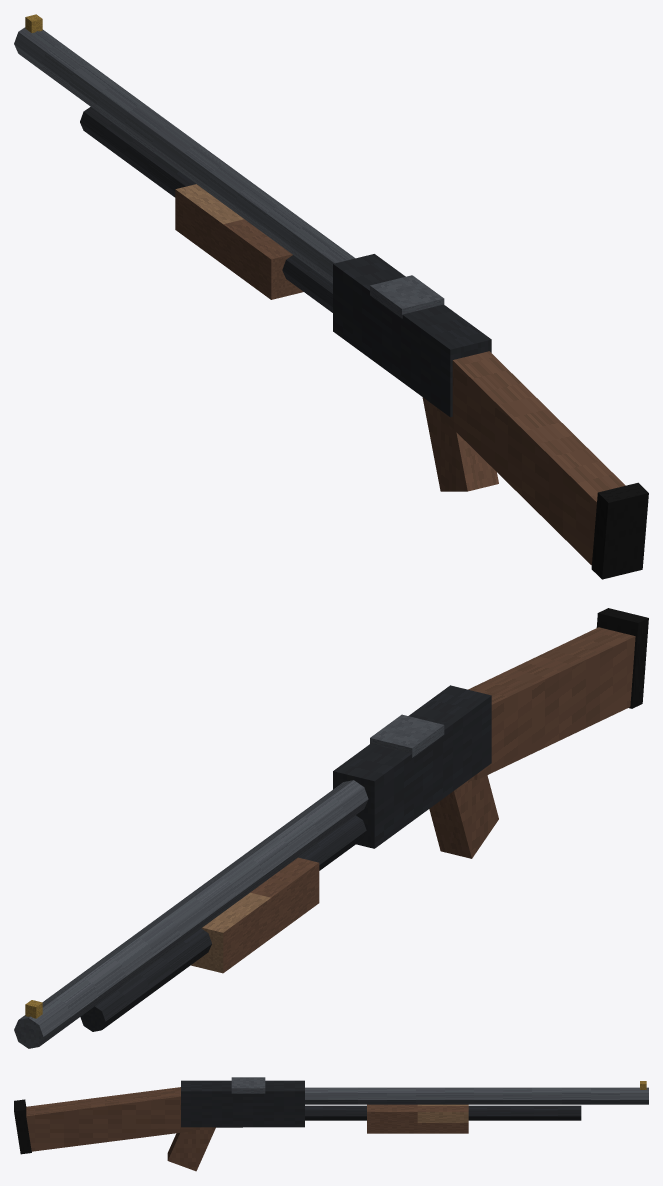
Rendered from weapon_shotgun.glb.
3 views of the same model, one above another, from view 1: azimuth 30°, elevation 25°; view 2: azimuth 150°, elevation 25°; view 3: azimuth 270°, elevation 25° (orthographic). The views are drawn at different scales.
Visible parts, largest first — view 1: weapon_shotgun; view 2: weapon_shotgun; view 3: weapon_shotgun.
Part boxes in pixels (x1,y1,x2,y2): weapon_shotgun: [14, 14, 648, 579]; weapon_shotgun: [14, 608, 648, 1048]; weapon_shotgun: [14, 1077, 648, 1171].
Bounding box in the file's own units: 0.052 × 0.1663 × 1.13.
1 material, 1 textured.
